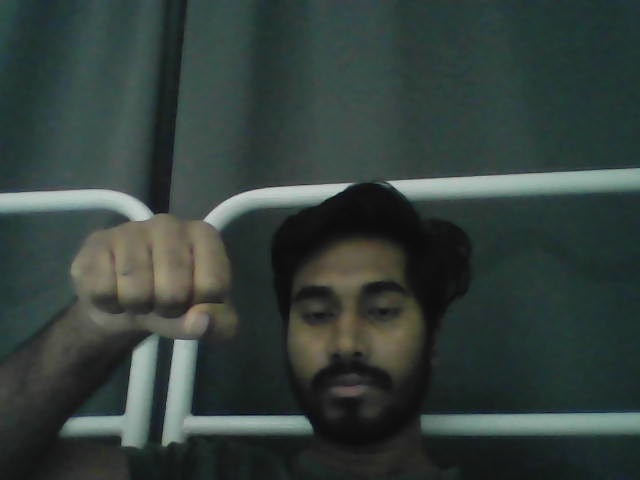yes: (67, 211, 244, 342)
